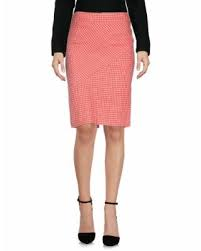C_skirt: (61, 8, 146, 140)
